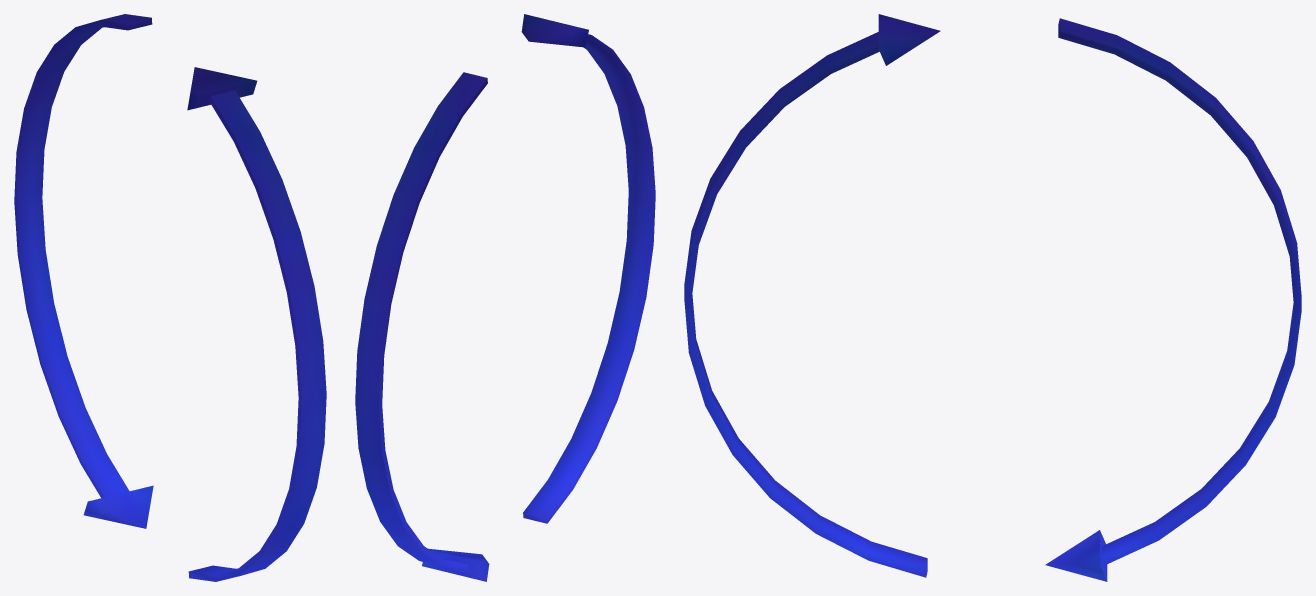
3 renders of one model, left to right at view 1: azimuth 30°, elevation 25°; view 2: azimuth 150°, elevation 25°; view 3: azimuth 270°, elevation 25°, orthographic. The views are drawn at different scales.
Parts seen in each view (by area): view 1: GizmoRotateXAnimated; view 2: GizmoRotateXAnimated; view 3: GizmoRotateXAnimated.
Boxes of the visible parts, x1=… form: GizmoRotateXAnimated: x1=14, y1=14, x2=326, y2=581; GizmoRotateXAnimated: x1=355, y1=14, x2=655, y2=581; GizmoRotateXAnimated: x1=684, y1=14, x2=1301, y2=581.
Size of the model in its own units: 0.2712 by 1.95 by 2.
1 material, 1 textured.
